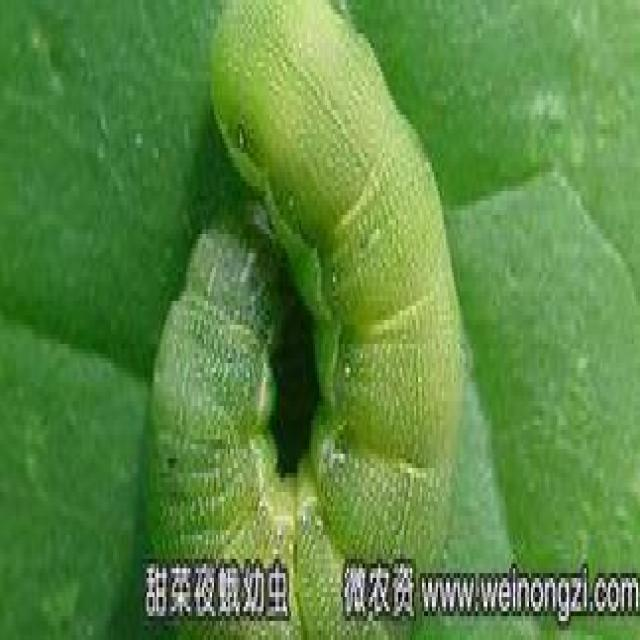BeetArmyWorm-Larva-: (132, 4, 466, 635)
